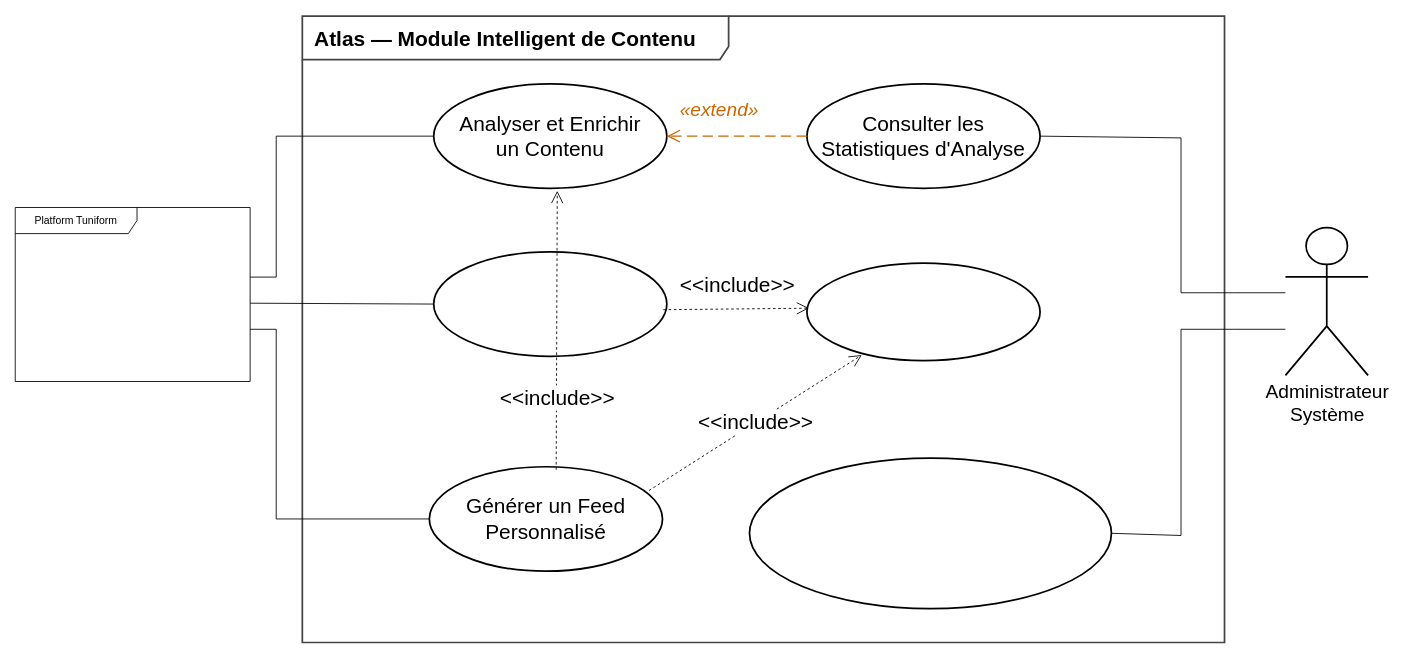
Image size: 1403x658. Some labels were removed from this diagram. Each missing label, with the centre of its shape:
"Configurer les Paramètres du Système (Taxonomie, Worker, Valeur d'interaction)" belongs at point 930,533.
"Mettre à Jour le Profil Utilisateur" belongs at point 923,311.
"Traiter un Événement d'Interaction" belongs at point 549,304.
